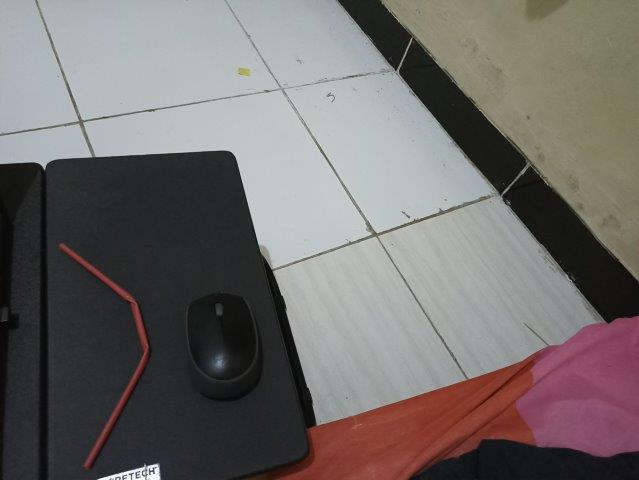sedotan: (59, 243, 150, 468)
